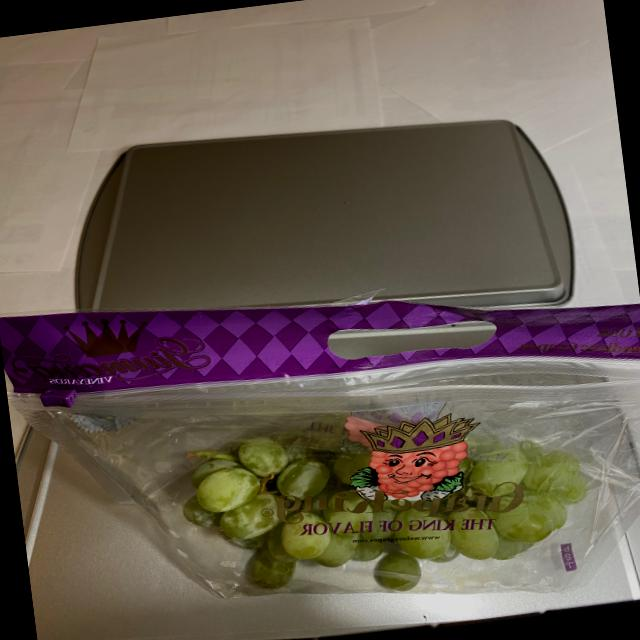grapes: (153, 386, 622, 616)
